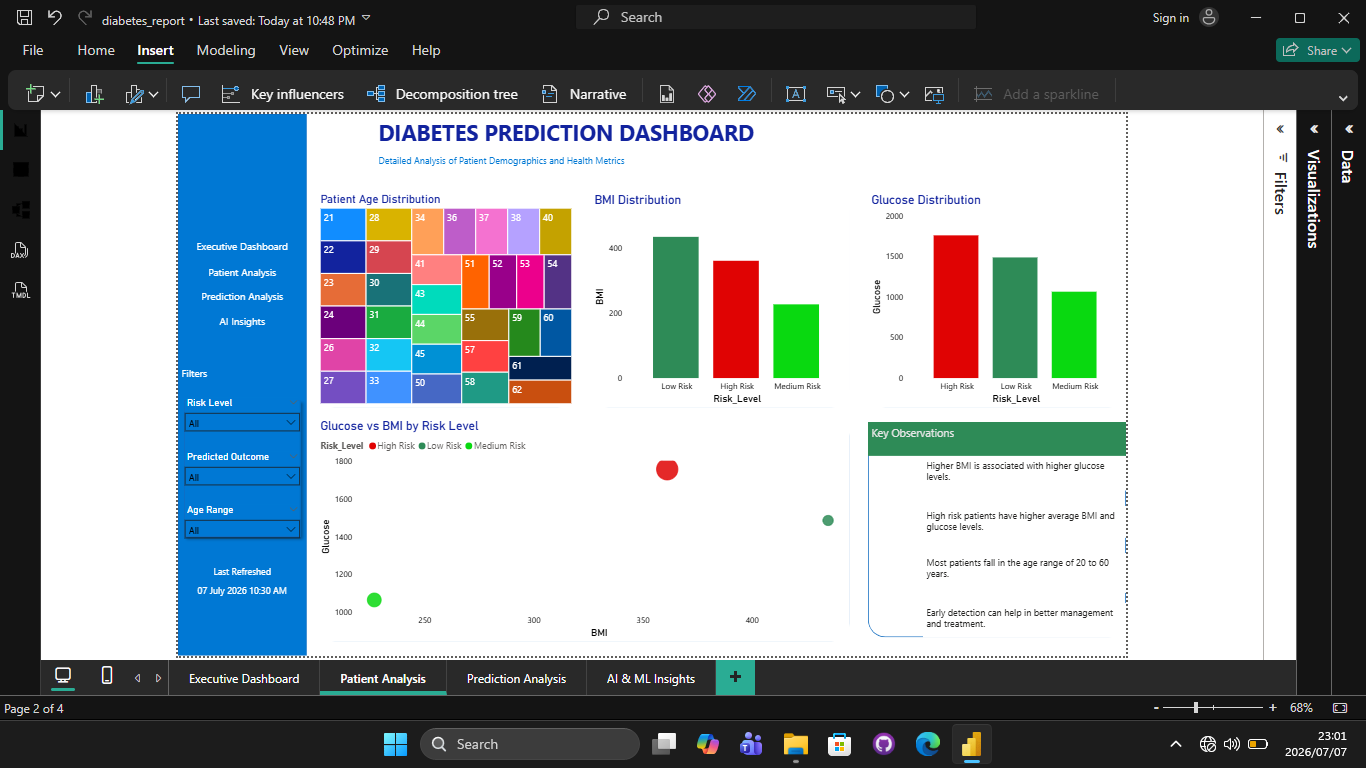

This screenshot's page, from the dashboard's own definition file:
{"tool":"powerbi","page":{"name":"Patient Analysis","canvas":[1400,800],"ordinal":1},"visuals":[{"type":"shape","box":[0,0,189.7,799.4],"z":0},{"type":"textbox","box":[0,180.6,189.7,37.6],"z":1000},{"type":"textbox","box":[0,218.3,189.7,36.1],"z":2000},{"type":"textbox","box":[0,254.4,189.7,36.1],"z":3000},{"type":"textbox","box":[0,290.5,189.7,34.6],"z":4000},{"type":"shape","box":[0,414,189.7,219.8],"z":5000},{"type":"textbox","box":[0,367.3,189.7,33.1],"z":6000},{"type":"slicer","fields":{"Values":["Diabetes_Predictions.Risk_Level"]},"box":[0,414,189.7,67.7],"z":7000},{"type":"slicer","fields":{"Values":["Diabetes_Predictions.Predicted_Outcome"]},"box":[0,492.3,189.7,63.2],"z":8000},{"type":"slicer","fields":{"Values":["Diabetes_Predictions.Age"]},"box":[0,570.5,189.7,63.2],"z":9000},{"type":"textbox","box":[0,660.9,189.7,28.6],"z":10000},{"type":"textbox","box":[0,689.5,189.7,31.6],"z":11000},{"type":"textbox","box":[290.5,0,1109.5,54.2],"z":12000},{"type":"textbox","box":[290.5,54.2,1109.5,33.1],"z":13000},{"type":"shape","box":[204.7,114.4,380.9,317.6],"z":14000},{"type":"shape","box":[204.7,448.6,785.8,329.7],"z":15000},{"type":"shape","box":[1019.1,114.4,380.9,317.6],"z":16000},{"type":"shape","box":[609.7,114.4,380.9,317.6],"z":17000},{"type":"shape","box":[1019.1,454.6,380.9,317.6],"z":18000},{"type":"treemap","title":"Patient Age Distribution","fields":{"Group":["Diabetes_Predictions.Age"],"Values":["Diabetes_Predictions.Total Patients"]},"box":[204.7,114.4,380.9,317.6],"z":19000},{"type":"scatterChart","title":"Glucose vs BMI by Risk Level","fields":{"Y":["Sum(Diabetes_Predictions.Glucose)"],"X":["Sum(Diabetes_Predictions.BMI)"],"Series":["Diabetes_Predictions.Risk_Level"],"Size":["Sum(Diabetes_Predictions.Prediction_Probability)"]},"box":[204.7,448.6,785.8,329.7],"z":20000},{"type":"clusteredColumnChart","title":"BMI Distribution","fields":{"Category":["Diabetes_Predictions.Risk_Level"],"Y":["Sum(Diabetes_Predictions.BMI)"]},"box":[609.7,114.4,380.9,317.6],"z":21000},{"type":"clusteredColumnChart","title":"Glucose Distribution","fields":{"Category":["Diabetes_Predictions.Risk_Level"],"Y":["Sum(Diabetes_Predictions.Glucose)"]},"box":[1019.1,114.4,380.9,317.6],"z":22000},{"type":"textbox","box":[1019.1,454.6,380.9,49.7],"z":23000},{"type":"textbox","box":[1098.9,504.3,301.1,51.2],"z":24000},{"type":"textbox","box":[1098.9,578.1,301.1,46.7],"z":25000},{"type":"textbox","box":[1098.9,647.3,301.1,58.7],"z":26000},{"type":"textbox","box":[1098.9,721.1,301.1,51.2],"z":27000}]}

Visuals, with their boxes on the page's 1400x800 design canvas (x1, y1, x2, y2). These are canvas units, not pixel positions in the 1366x768 screenshot, which may show the page scaled, cropped or inside an application window:
shape: left=0, top=0, right=190, bottom=799
textbox: left=0, top=181, right=190, bottom=218
textbox: left=0, top=218, right=190, bottom=254
textbox: left=0, top=254, right=190, bottom=290
textbox: left=0, top=290, right=190, bottom=325
shape: left=0, top=414, right=190, bottom=634
textbox: left=0, top=367, right=190, bottom=400
slicer - Diabetes_Predictions.Risk_Level: left=0, top=414, right=190, bottom=482
slicer - Diabetes_Predictions.Predicted_Outcome: left=0, top=492, right=190, bottom=556
slicer - Diabetes_Predictions.Age: left=0, top=570, right=190, bottom=634
textbox: left=0, top=661, right=190, bottom=690
textbox: left=0, top=690, right=190, bottom=721
textbox: left=290, top=0, right=1400, bottom=54
textbox: left=290, top=54, right=1400, bottom=87
shape: left=205, top=114, right=586, bottom=432
shape: left=205, top=449, right=990, bottom=778
shape: left=1019, top=114, right=1400, bottom=432
shape: left=610, top=114, right=991, bottom=432
shape: left=1019, top=455, right=1400, bottom=772
"Patient Age Distribution" treemap: left=205, top=114, right=586, bottom=432
"Glucose vs BMI by Risk Level" scatterChart: left=205, top=449, right=990, bottom=778
"BMI Distribution" clusteredColumnChart: left=610, top=114, right=991, bottom=432
"Glucose Distribution" clusteredColumnChart: left=1019, top=114, right=1400, bottom=432
textbox: left=1019, top=455, right=1400, bottom=504
textbox: left=1099, top=504, right=1400, bottom=556
textbox: left=1099, top=578, right=1400, bottom=625
textbox: left=1099, top=647, right=1400, bottom=706
textbox: left=1099, top=721, right=1400, bottom=772
